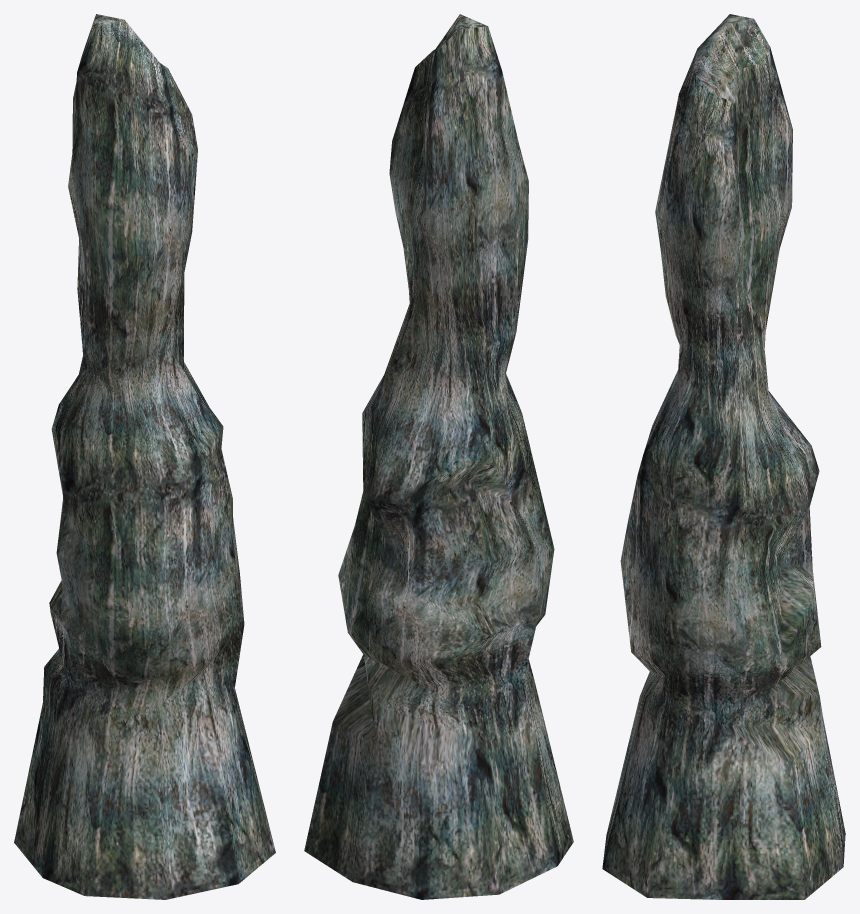
Rendered from rock_dath_desertspire_a1_l1.fbx.
3 renders of one model, left to right at view 1: azimuth 30°, elevation 25°; view 2: azimuth 150°, elevation 25°; view 3: azimuth 270°, elevation 25°, orthographic.
Parts seen in each view (by area): view 1: mesh_node; view 2: mesh_node; view 3: mesh_node.
Boxes of the visible parts, x1,y1,x2,y2 form: mesh_node: (14,14,275,899); mesh_node: (304,14,573,899); mesh_node: (602,14,845,899).
Bounding box in the file's own units: 17.25 × 65.98 × 17.74.
